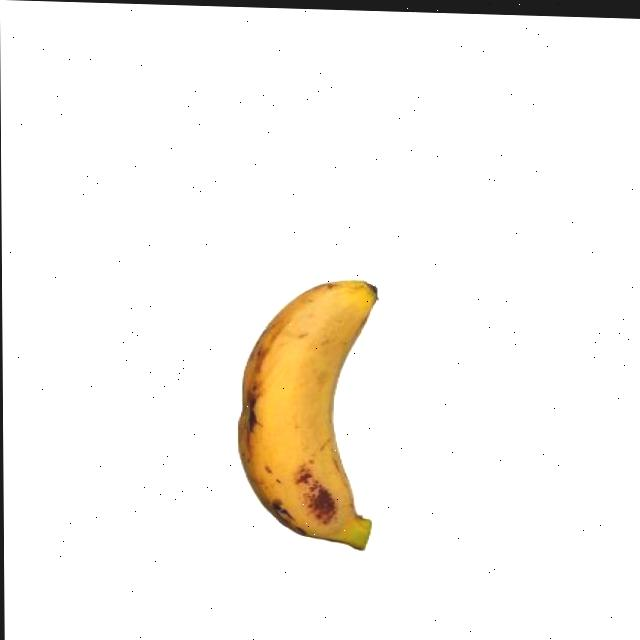banana: (226, 265, 386, 558)
